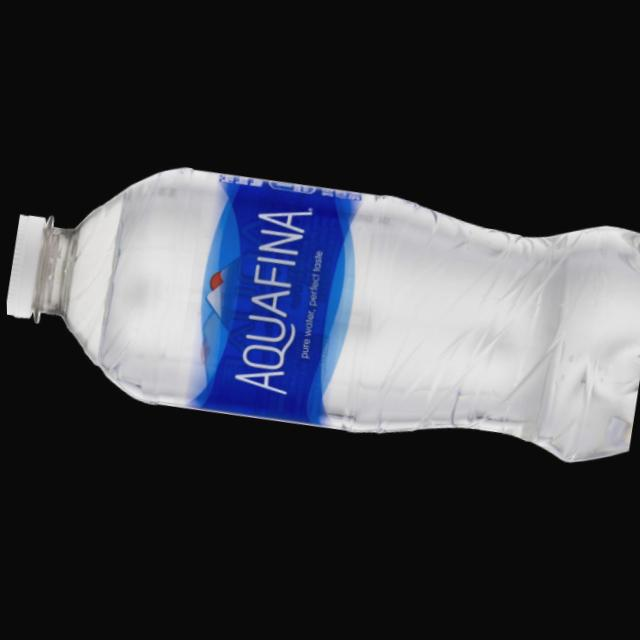anorganik: (2, 106, 640, 504)
